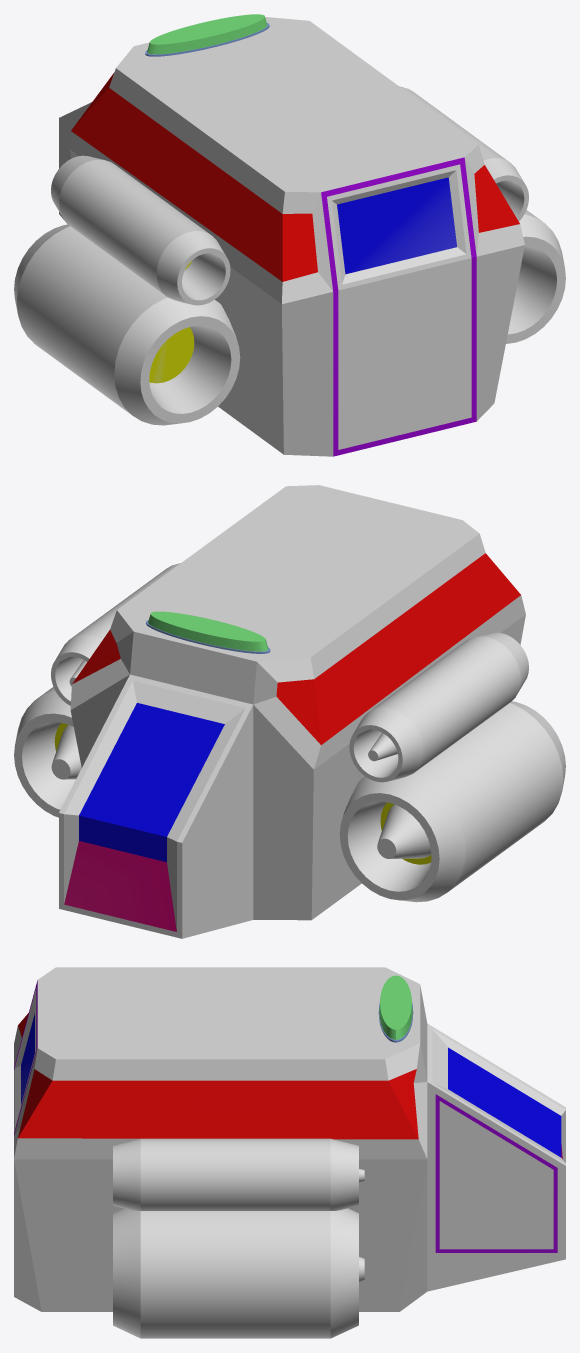
Rendered from Ambulance.fbx.
The picture shows the model from 3 angles, top to bottom: view 1: azimuth 30°, elevation 25°; view 2: azimuth 150°, elevation 25°; view 3: azimuth 270°, elevation 25°; orthographic projection. The views are drawn at different scales.
Visible parts, largest first — view 1: Cylinder; view 2: Cylinder; view 3: Cylinder.
Part boxes in pixels (x1=…): Cylinder: x1=14, y1=14, x2=565, y2=456; Cylinder: x1=14, y1=485, x2=565, y2=938; Cylinder: x1=14, y1=967, x2=565, y2=1338.
Size of the model in its own units: 7.28 by 4.13 by 7.96.
